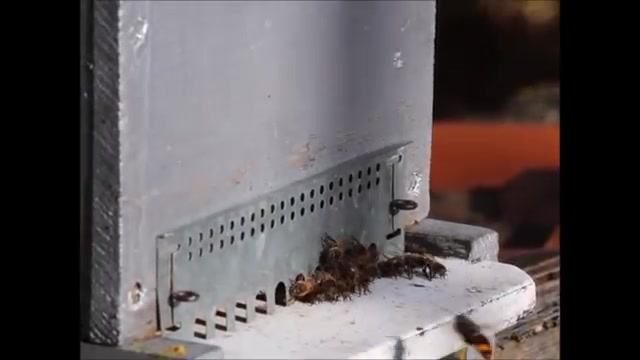bee: (380, 250, 447, 283), (309, 267, 379, 298), (322, 243, 378, 276), (282, 282, 312, 298)
hornet: (446, 314, 500, 360)
